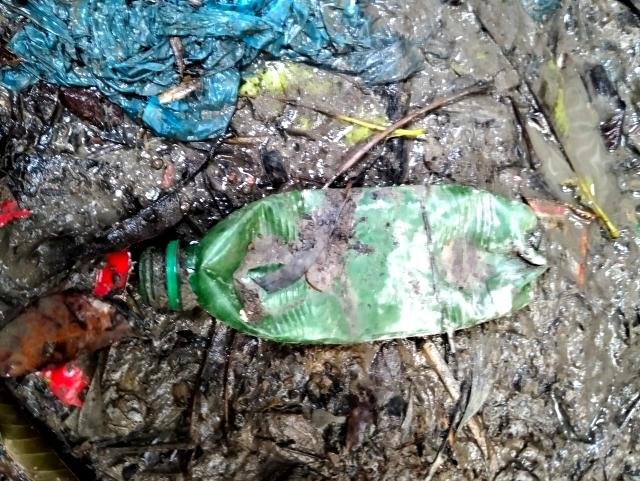bottle: (165, 183, 546, 342)
